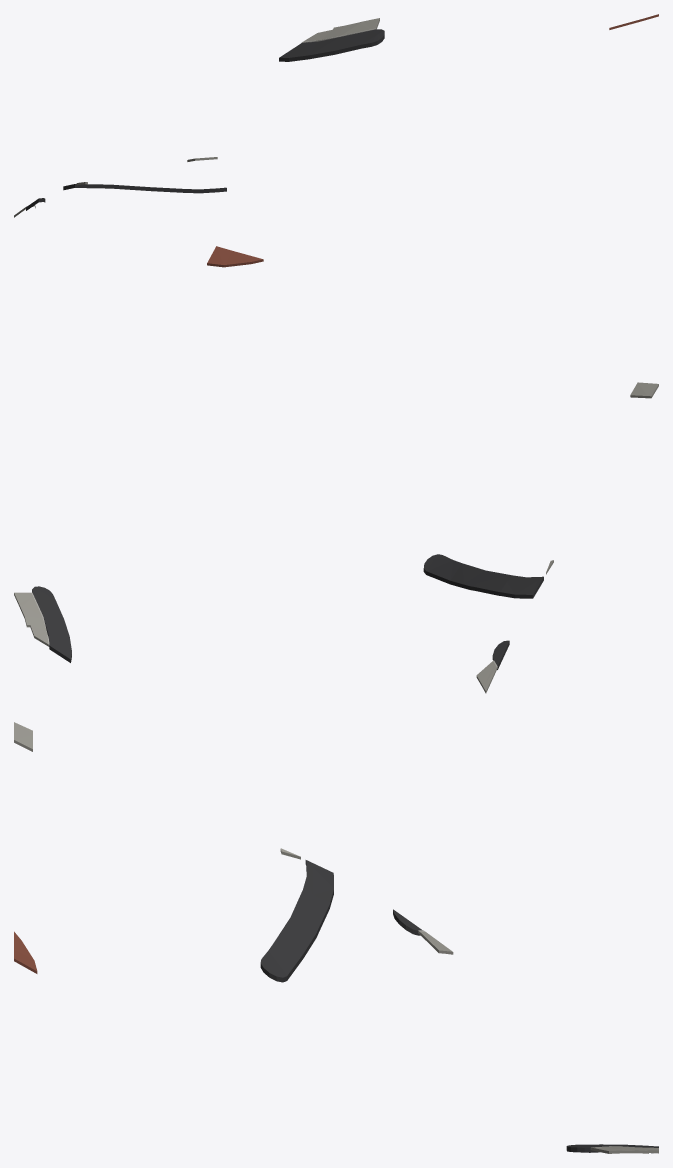
3 views of the same model, one above another, from view 1: azimuth 30°, elevation 25°; view 2: azimuth 150°, elevation 25°; view 3: azimuth 270°, elevation 25° (orthographic). The views are drawn at different scales.
Bounding box in the file's own units: 147 × 67.47 × 146.
